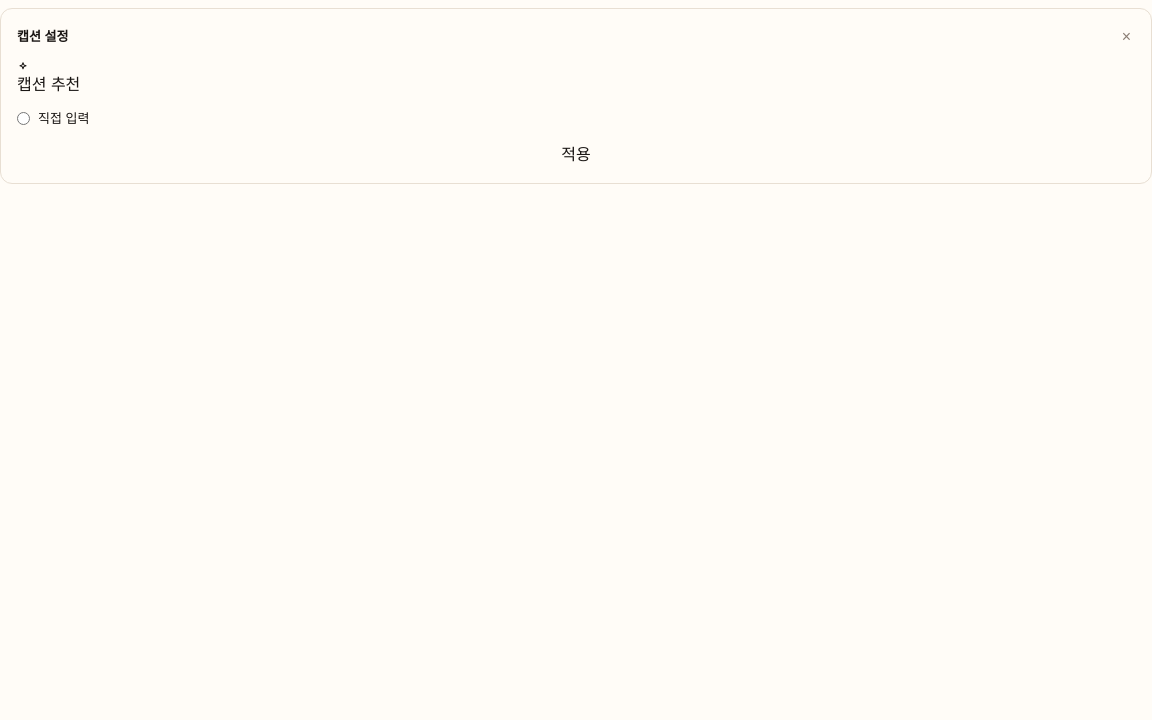
Test: CaptionSelector › AI 캡션 3개 옵션이 렌더링된다
What coordinates should you click on to do the following:
click the button "캡션 추천"
I would click on:
 (49, 79)
Its box is [17,61,80,97].
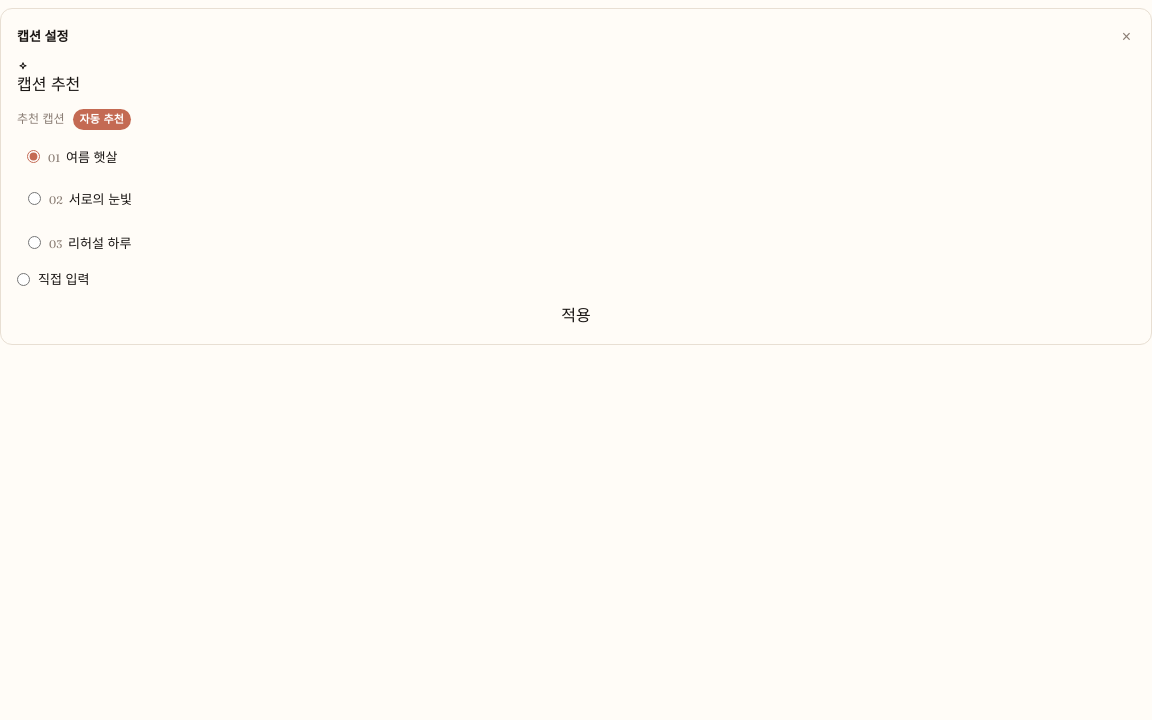
Expected: the text "여름 햇살" is shown, [66,150,118,164]
Expected: the text "서로의 눈빛" is shown, [69,192,132,207]
Expected: the text "리허설 하루" is shown, [68,236,132,250]
